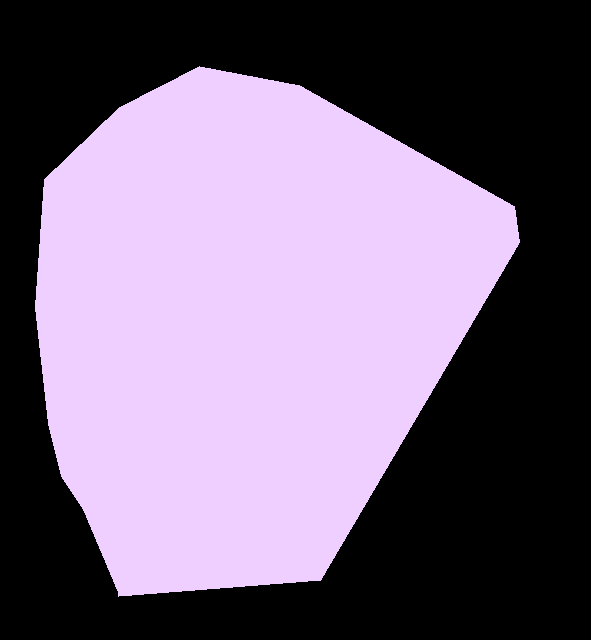Train: (35, 66, 519, 596)
